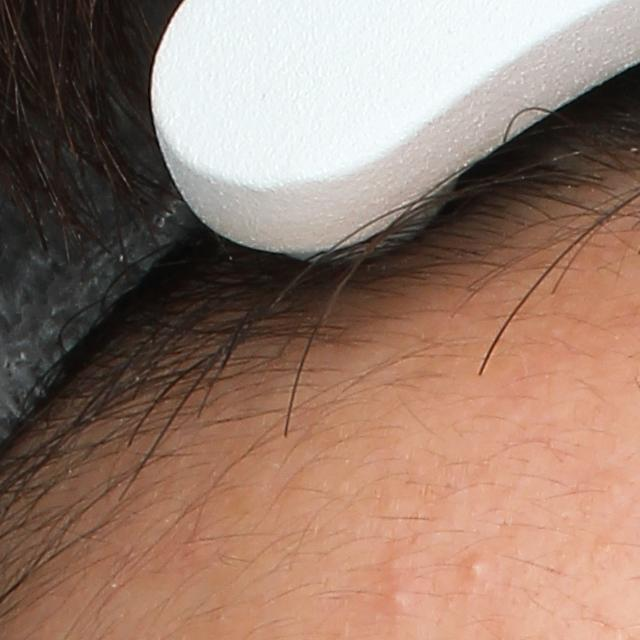comedo: (461, 552, 494, 579), (387, 589, 407, 608)
